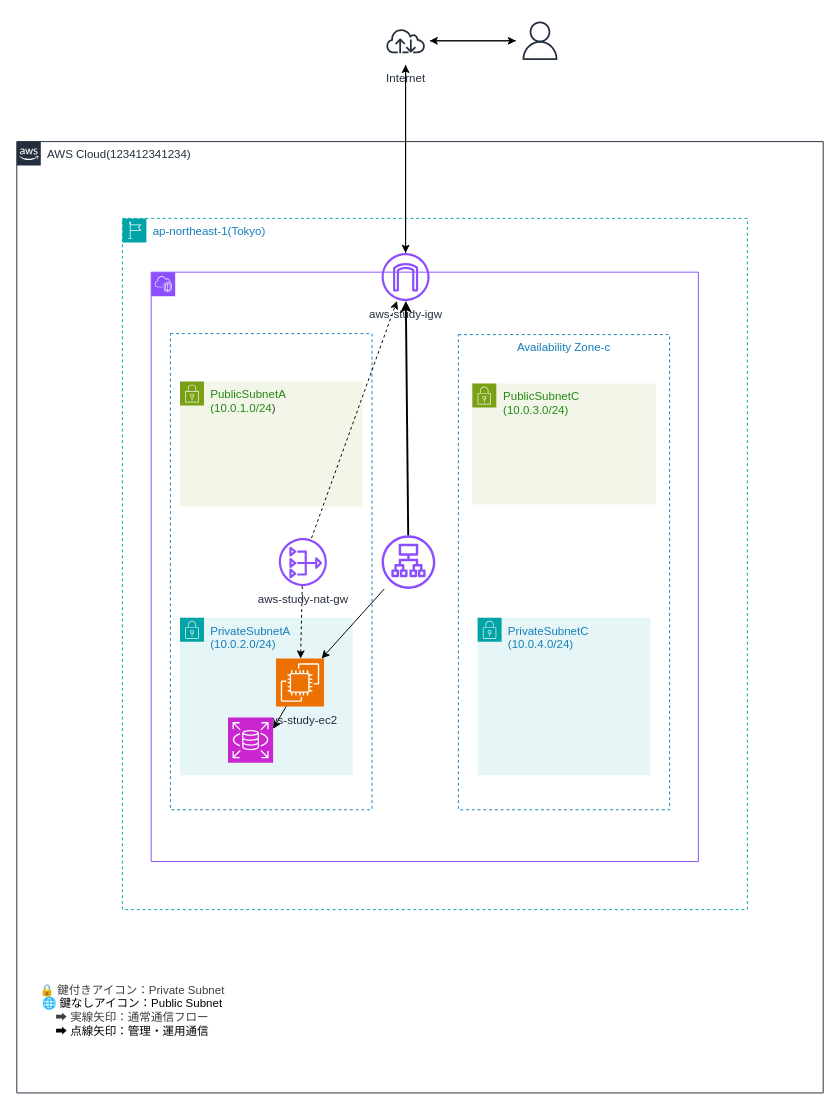
Image size: 840x1110. Some labels were removed from this diagram. The box of each missing label's shape, as (x1, y1, x2, y2) in pixels:
Availability Zone: (169, 333, 372, 810)
aws-study-elb: (381, 535, 435, 588)
aws-study-rds: (227, 717, 273, 763)
aws-study-vpc(10.0.0.0/16): (150, 271, 698, 862)
Users: (515, 16, 564, 65)
